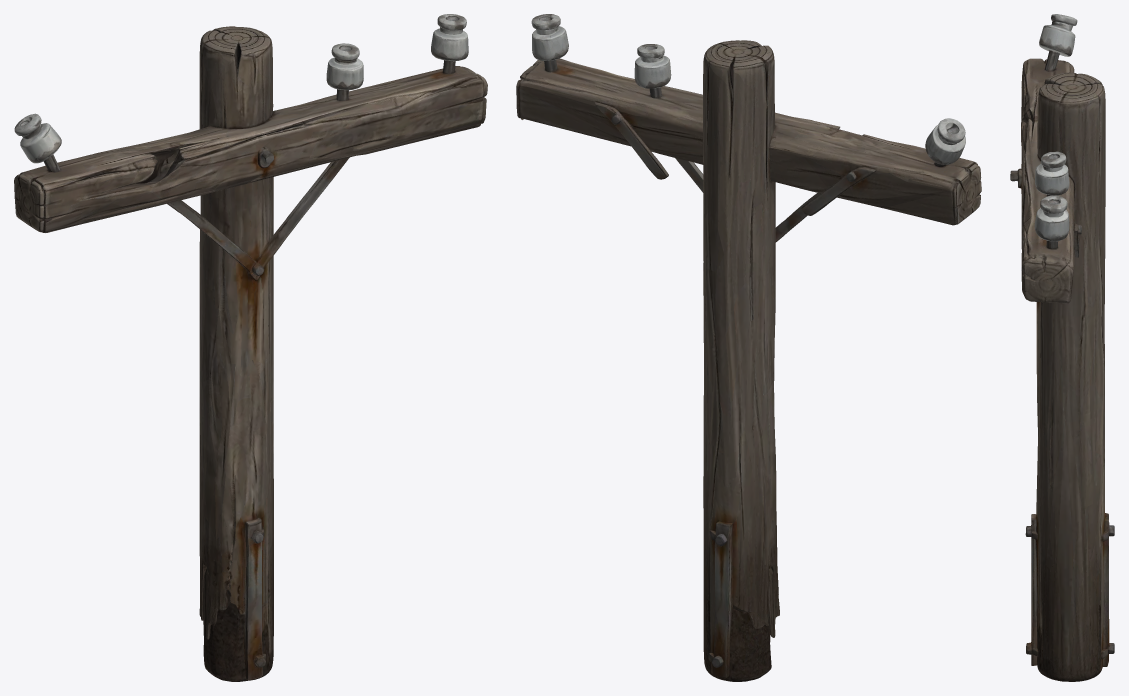
The model's file is defect_pole.glb.
3 views of the same model, side by side, from view 1: azimuth 30°, elevation 25°; view 2: azimuth 150°, elevation 25°; view 3: azimuth 270°, elevation 25° (orthographic). The views are drawn at different scales.
Bounding box in the file's own units: 1.43 × 1.9 × 0.3068.
Materials: 1 (1 with a texture image).
